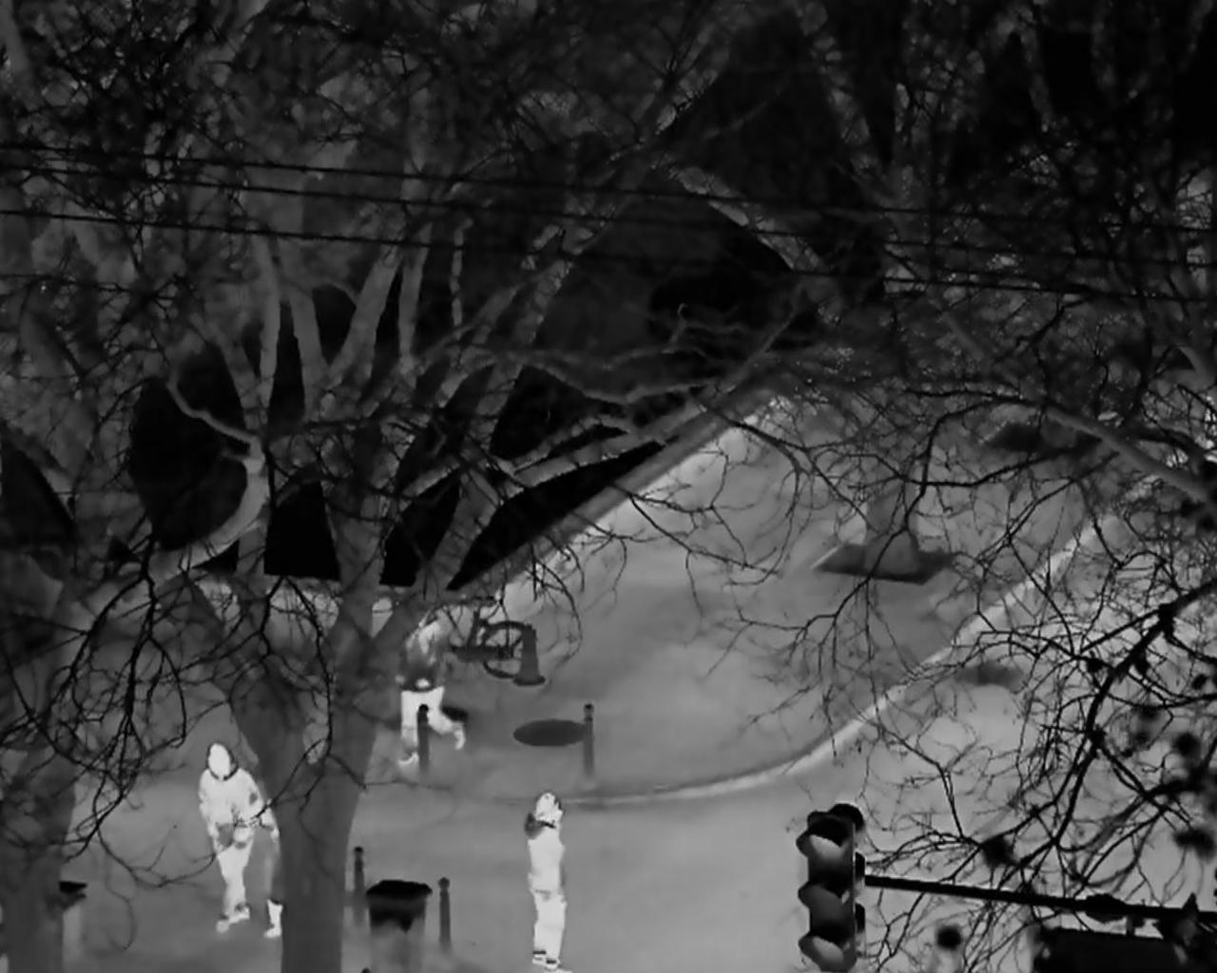person: (195, 740, 264, 931), (396, 609, 466, 763), (523, 792, 568, 973)
